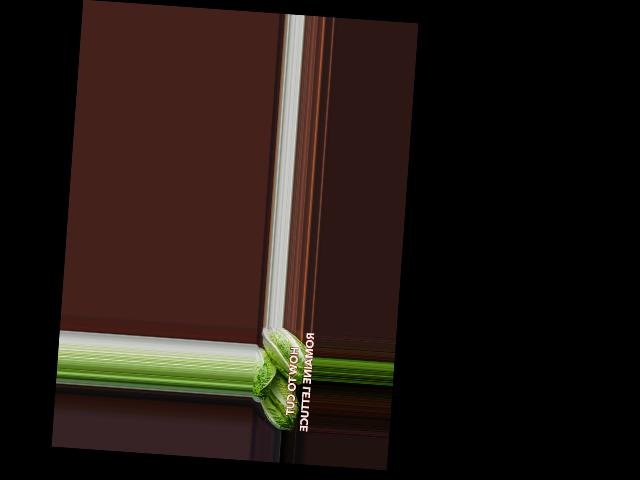lettuce: (255, 366, 306, 434)
